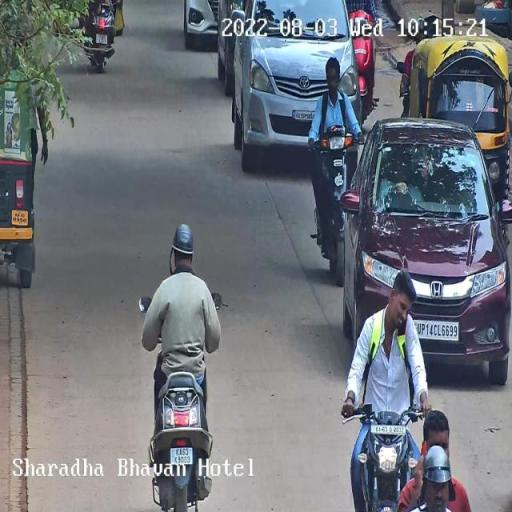using mobile: (385, 307, 414, 343)
